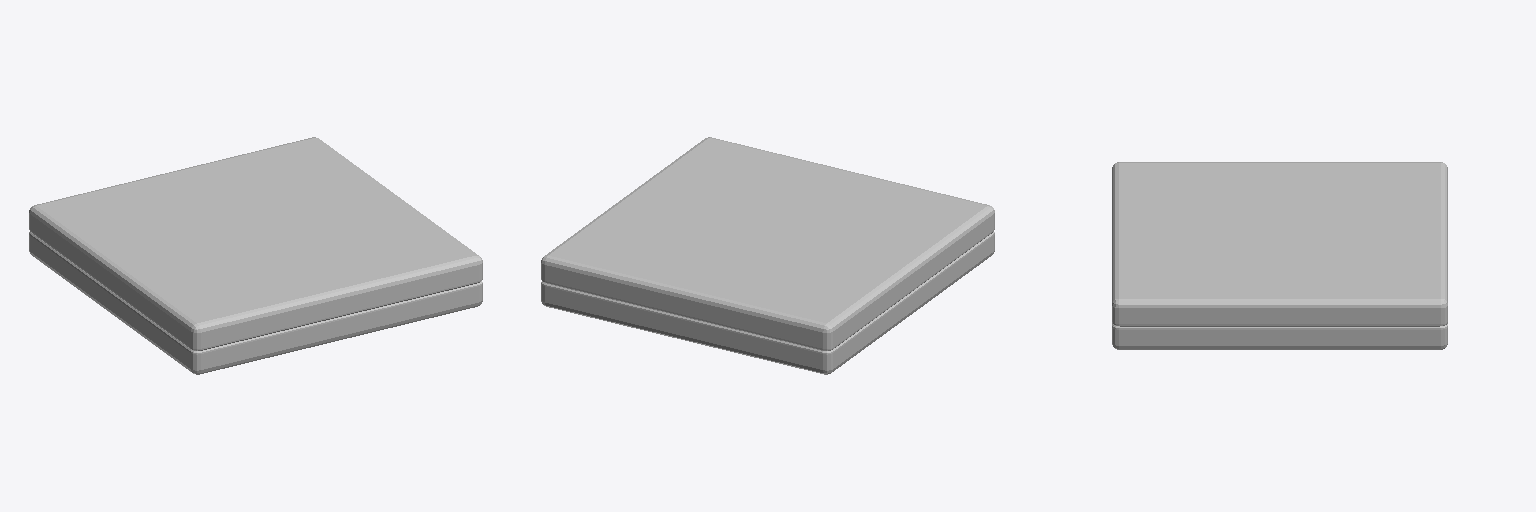
File: tileLarge_graveyard.obj
3 renders of one model, left to right at view 1: azimuth 30°, elevation 25°; view 2: azimuth 150°, elevation 25°; view 3: azimuth 270°, elevation 25°, orthographic.
Parts seen in each view (by area): view 1: tileLarge_graveyard_Cube.032; view 2: tileLarge_graveyard_Cube.032; view 3: tileLarge_graveyard_Cube.032.
Part boxes in pixels (x1,y1,x2,y2): tileLarge_graveyard_Cube.032: (29,137,482,374); tileLarge_graveyard_Cube.032: (541,137,994,374); tileLarge_graveyard_Cube.032: (1112,162,1447,349).
Size of the model in its own units: 6 by 1 by 6.